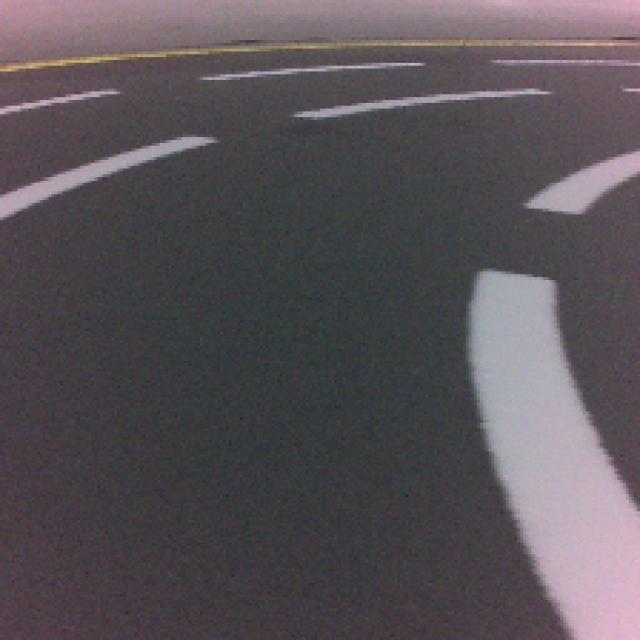Road: (0, 388, 575, 640)
